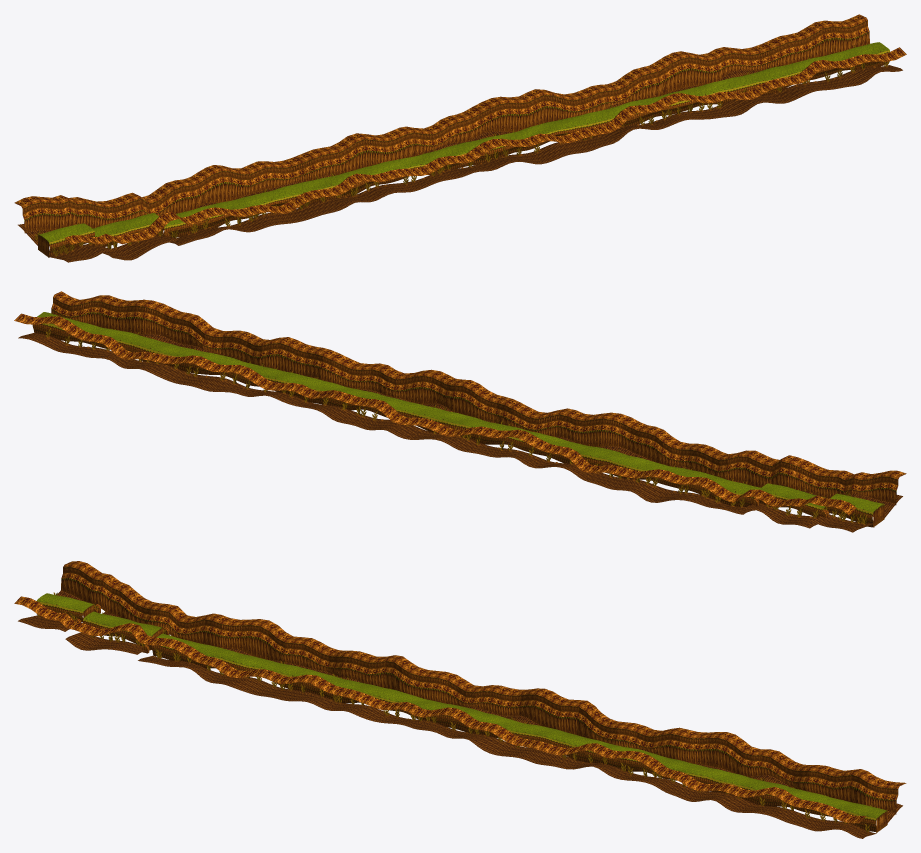
The model's file is HideTerrainCompact.glb.
3 views of the same model, one above another, from view 1: azimuth 30°, elevation 25°; view 2: azimuth 150°, elevation 25°; view 3: azimuth 330°, elevation 25° (orthographic).
Visible parts, largest first — view 1: Sonic_Sector_0, Sonic_Sector_3, Sonic_Sector_4, Sonic_Sector_8, Sonic_Sector_7, Sonic_Sector_11, Sonic_Sector_10, Sonic_Sector_12, Sonic_Sector_5, Sonic_Sector_6, Sonic_Sector_2, Sonic_Sector_1 (+2 smaller); view 2: Sonic_Sector_4, Sonic_Sector_12, Sonic_Sector_11, Sonic_Sector_0, Sonic_Sector_7, Sonic_Sector_9, Sonic_Sector_6, Sonic_Sector_3, Sonic_Sector_8, Sonic_Sector_2, Sonic_Sector_1, Sonic_Sector_10 (+2 smaller); view 3: Sonic_Sector_0, Sonic_Sector_10, Sonic_Sector_3, Sonic_Sector_8, Sonic_Sector_7, Sonic_Sector_4, Sonic_Sector_11, Sonic_Sector_5, Sonic_Sector_1, Sonic_Sector_2, Sonic_Sector_12, Sonic_Sector_6 (+2 smaller).
Boxes of the visible parts, x1=… form: Sonic_Sector_0: x1=14, y1=195, x2=131, y2=262; Sonic_Sector_3: x1=198, y1=161, x2=314, y2=232; Sonic_Sector_4: x1=258, y1=146, x2=379, y2=217; Sonic_Sector_8: x1=510, y1=89, x2=621, y2=158; Sonic_Sector_7: x1=449, y1=96, x2=563, y2=168; Sonic_Sector_11: x1=691, y1=47, x2=807, y2=114; Sonic_Sector_10: x1=634, y1=51, x2=744, y2=121; Sonic_Sector_12: x1=752, y1=22, x2=865, y2=94; Sonic_Sector_5: x1=331, y1=131, x2=436, y2=201; Sonic_Sector_6: x1=392, y1=116, x2=499, y2=184; Sonic_Sector_2: x1=142, y1=172, x2=248, y2=243; Sonic_Sector_1: x1=78, y1=192, x2=187, y2=260; Sonic_Sector_4: x1=544, y1=412, x2=663, y2=487; Sonic_Sector_12: x1=59, y1=295, x2=172, y2=365; Sonic_Sector_11: x1=118, y1=308, x2=230, y2=384; Sonic_Sector_0: x1=792, y1=470, x2=906, y2=532; Sonic_Sector_7: x1=360, y1=369, x2=470, y2=439; Sonic_Sector_9: x1=241, y1=337, x2=350, y2=407; Sonic_Sector_6: x1=420, y1=380, x2=528, y2=456; Sonic_Sector_3: x1=607, y1=430, x2=720, y2=502; Sonic_Sector_8: x1=303, y1=359, x2=413, y2=429; Sonic_Sector_2: x1=670, y1=450, x2=779, y2=513; Sonic_Sector_1: x1=735, y1=455, x2=845, y2=524; Sonic_Sector_10: x1=177, y1=330, x2=287, y2=395; Sonic_Sector_0: x1=14, y1=561, x2=128, y2=649; Sonic_Sector_10: x1=633, y1=727, x2=743, y2=801; Sonic_Sector_3: x1=200, y1=619, x2=311, y2=696; Sonic_Sector_8: x1=507, y1=696, x2=617, y2=769; Sonic_Sector_7: x1=449, y1=685, x2=560, y2=756; Sonic_Sector_4: x1=257, y1=638, x2=376, y2=709; Sonic_Sector_11: x1=689, y1=740, x2=802, y2=812; Sonic_Sector_5: x1=325, y1=655, x2=436, y2=723; Sonic_Sector_1: x1=75, y1=585, x2=186, y2=661; Sonic_Sector_2: x1=140, y1=613, x2=249, y2=680; Sonic_Sector_12: x1=748, y1=764, x2=859, y2=831; Sonic_Sector_6: x1=391, y1=671, x2=500, y2=738.
Size of the model in its own units: 350 by 19.93 by 42.6.
2 materials, 2 textured.
